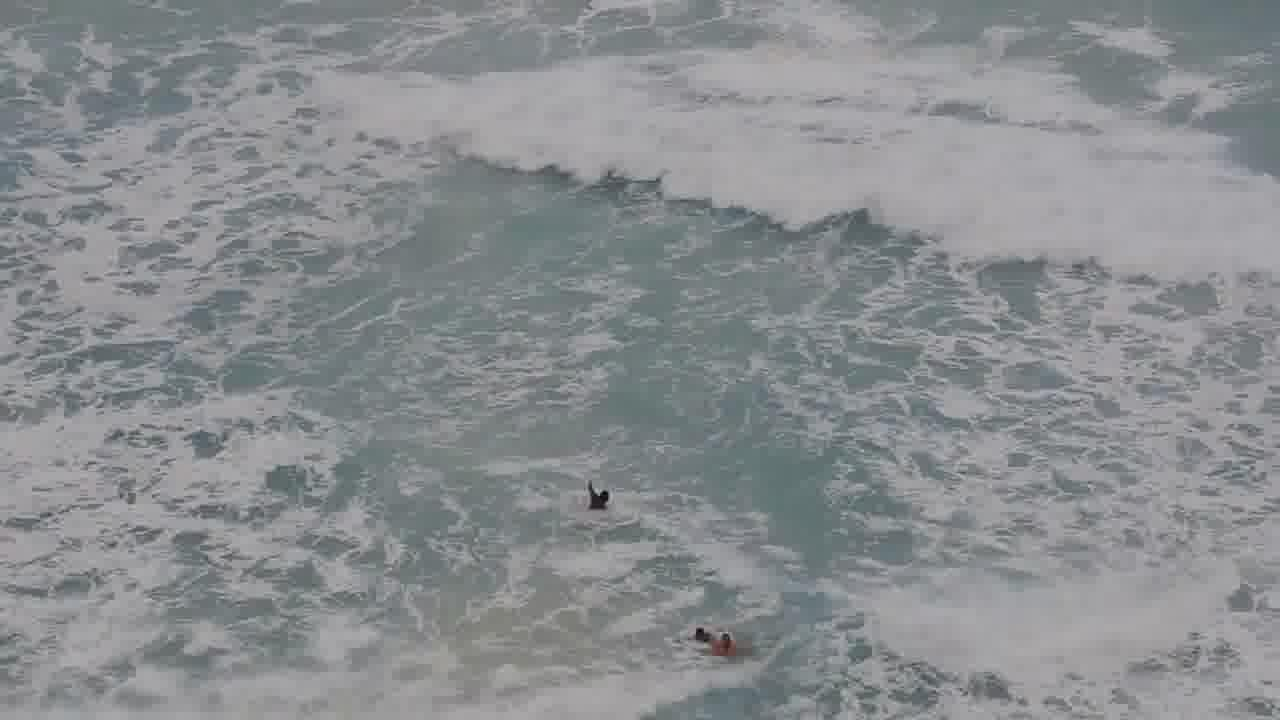human: (570, 462, 627, 532), (704, 626, 748, 667), (673, 614, 717, 645)
